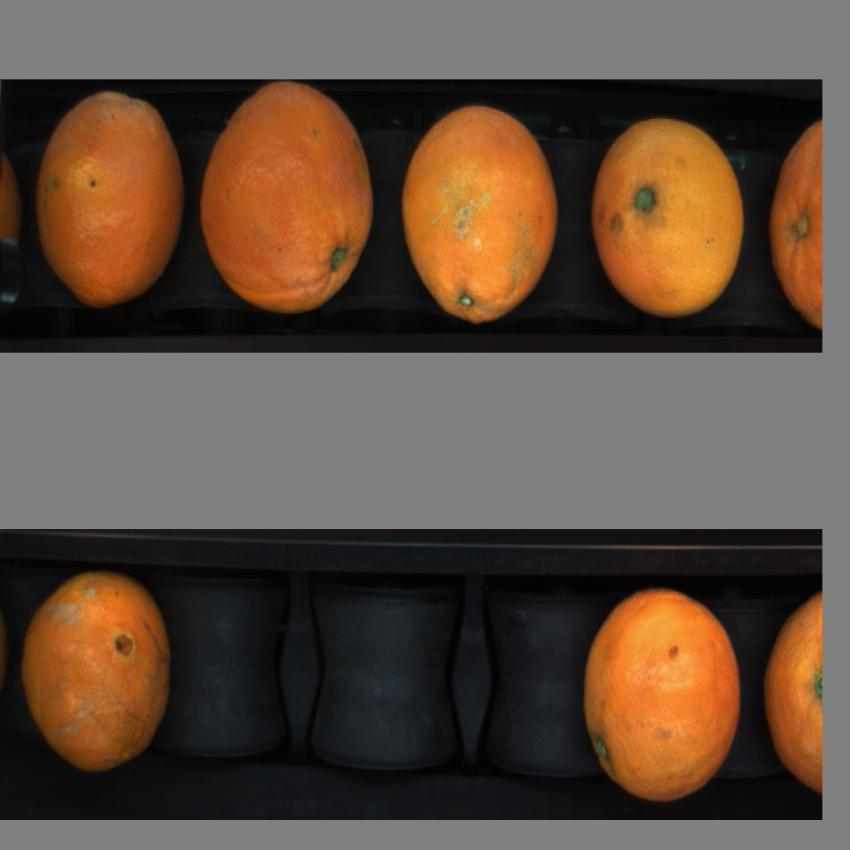Buen estado: (587, 103, 754, 329), (578, 585, 744, 802), (401, 105, 563, 324), (33, 88, 186, 315), (758, 581, 822, 787)
Mal estado: (199, 81, 377, 315), (21, 568, 176, 777), (765, 108, 822, 325)
